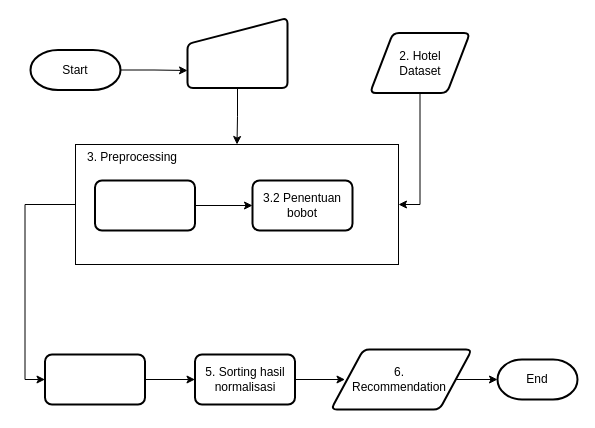
This 595x428 diagram has some shape labels left out. Here are the shapes that lost their labels. From the top down, the box of each, then its label:
(186, 16, 288, 88): 1. Input User Preferences
(94, 179, 196, 231): 3.1 Penentuan attribut
(44, 353, 146, 405): 4. Normalisasi Matriks
